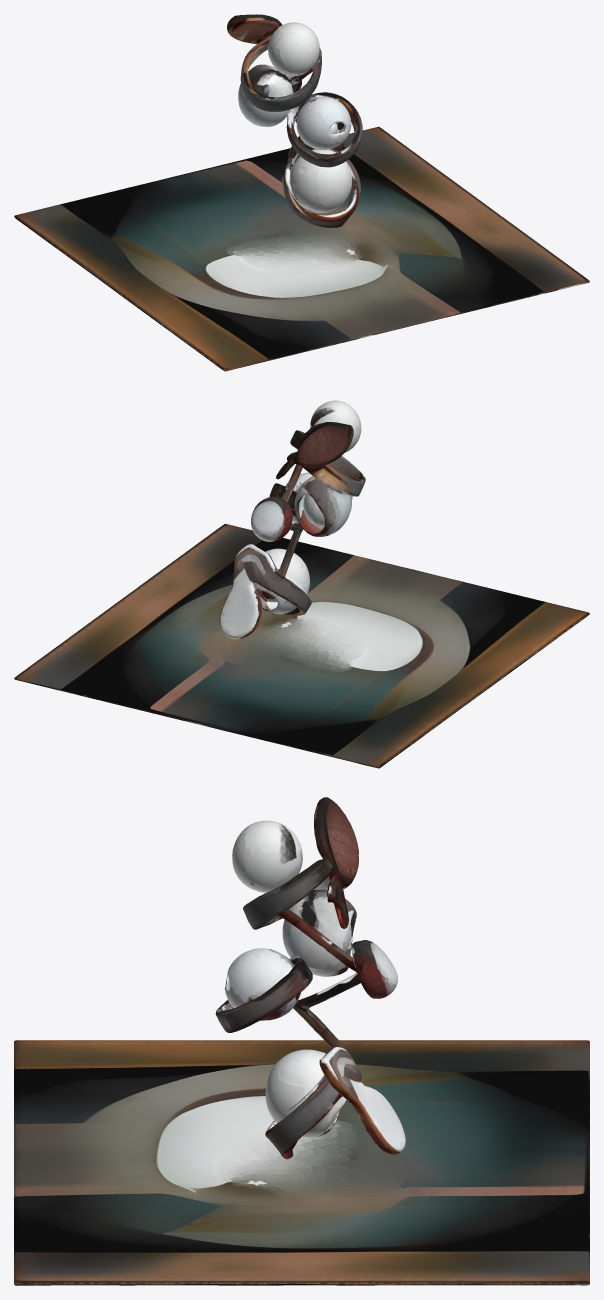
3 views of the same model, one above another, from view 1: azimuth 30°, elevation 25°; view 2: azimuth 150°, elevation 25°; view 3: azimuth 270°, elevation 25° (orthographic). The views are drawn at different scales.
Parts seen in each view (by area): view 1: textured_mesh; view 2: textured_mesh; view 3: textured_mesh.
Boxes of the visible parts, x1,y1,x2,y2 form: textured_mesh: [14, 14, 589, 371]; textured_mesh: [14, 400, 589, 768]; textured_mesh: [14, 797, 589, 1285].
Size of the model in its own units: 2 by 1.26 by 1.99.
1 material, 1 textured.
